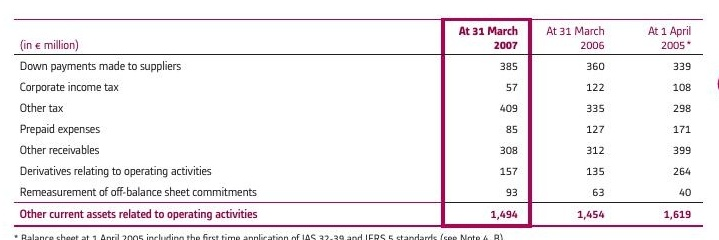table: (0, 0, 719, 240)
